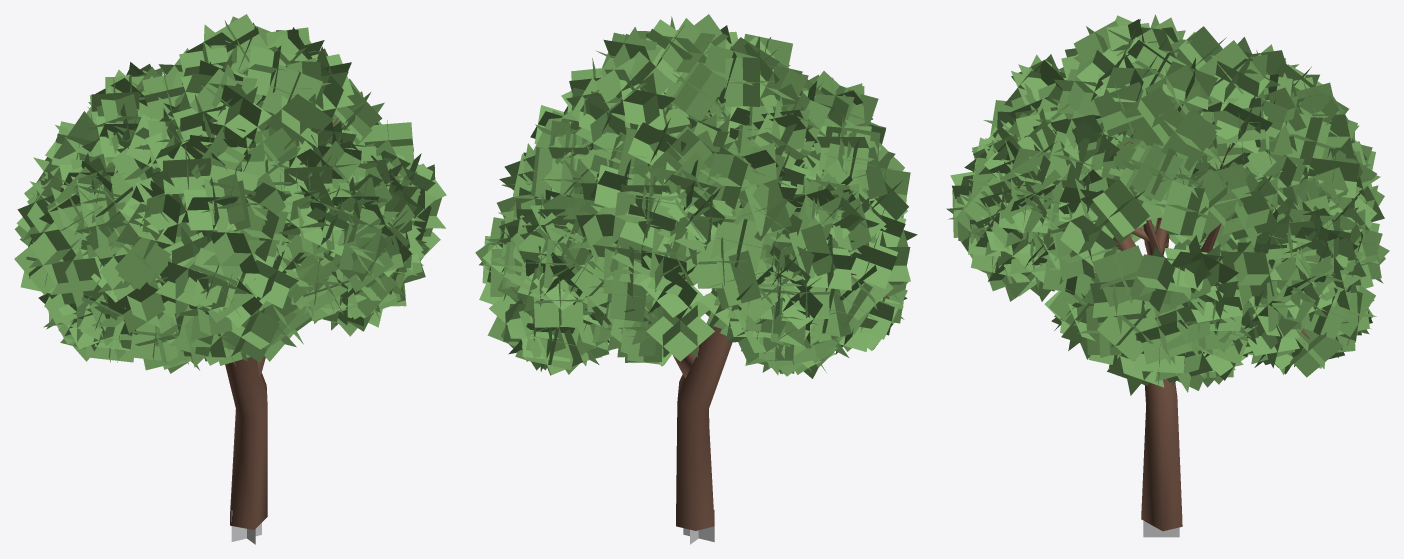
File: TRee_Fix.fbx
3 views of the same model, side by side, from view 1: azimuth 30°, elevation 25°; view 2: azimuth 150°, elevation 25°; view 3: azimuth 270°, elevation 25° (orthographic). The views are drawn at different scales.
Visible parts, largest first — view 1: tree, tree.008; view 2: tree, tree.008; view 3: tree, tree.008.
Part boxes in pixels (<box>): tree: <box>14,14,446,373</box>; tree.008: <box>189,117,338,529</box>; tree: <box>475,14,917,378</box>; tree.008: <box>664,92,889,530</box>; tree: <box>946,14,1389,395</box>; tree.008: <box>1109,141,1309,531</box>.
Size of the model in its own units: 158 by 194 by 153.
